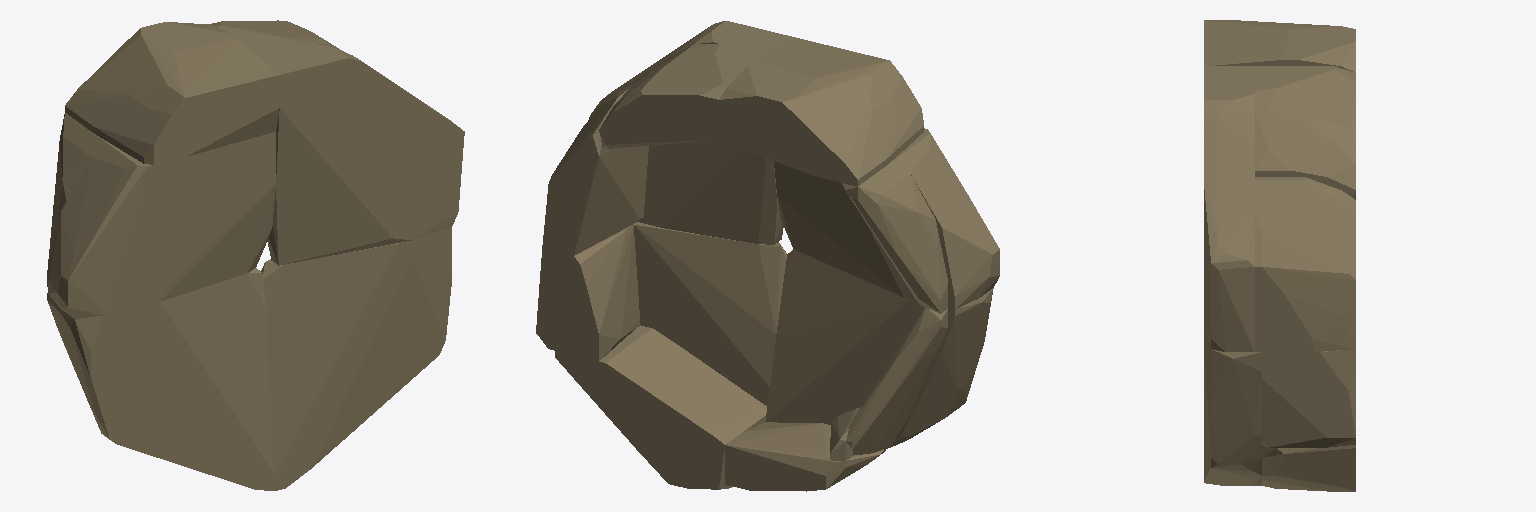
robot.urdf — Bowl:
<?xml version="1.0"?>
<robot name="Bowl">
  <link name="base_link">
    <visual>
      <origin xyz="0 0 0" rpy="0 0 0" />
      <geometry>
        <mesh filename="Bowl_decimated.obj" />      
      </geometry>
      <material name="tan">
        <color rgba="0.55 0.5 0.4 1" />
      </material>
    </visual>
    <collision>
      <origin xyz="0 0 0" rpy="0 0 0" />
      <geometry>
        <mesh filename="Bowl_decimated.obj" />
      </geometry>
    </collision>
  </link>
</robot>

--- Render facts (derived) ---
3 views of the same robot in one strip: view 1: azimuth 30°, elevation 25°; view 2: azimuth 150°, elevation 25°; view 3: azimuth 270°, elevation 25° (orthographic).
Robot: Bowl — 1 links, 0 joints (none); root link base_link; default pose: every joint at zero.
Visible links, largest first — view 1: base_link; view 2: base_link; view 3: base_link.
Boxes of the visible links, x1,y1,x2,y2 form: base_link: (47, 20, 464, 490); base_link: (536, 21, 999, 491); base_link: (1204, 20, 1355, 491).
Bounding box of the posed robot: 40.88 × 13.63 × 41.53 m (x, y, z).
1 mesh visuals loaded from 1 distinct referenced files (1 OBJ).
